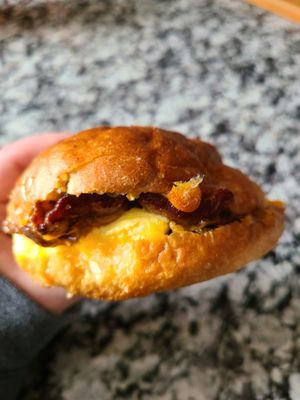soup: (0, 125, 288, 304)
